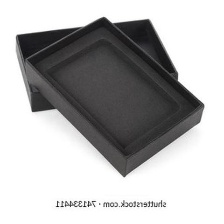foam_box: (21, 13, 209, 180), (12, 13, 182, 115)
